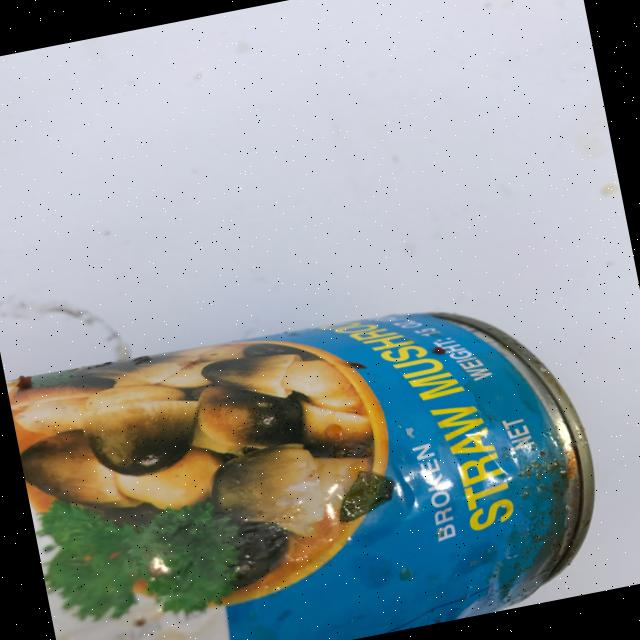metal: (6, 271, 617, 640)
